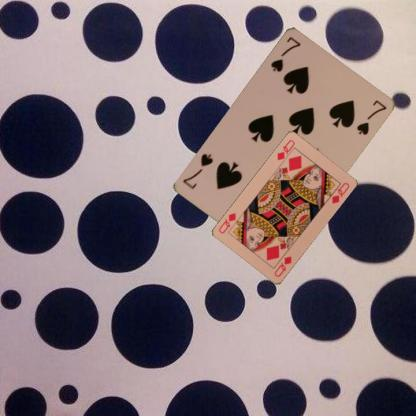7s: (268, 33, 301, 73)
Qd: (274, 138, 296, 166), (272, 254, 294, 279)
